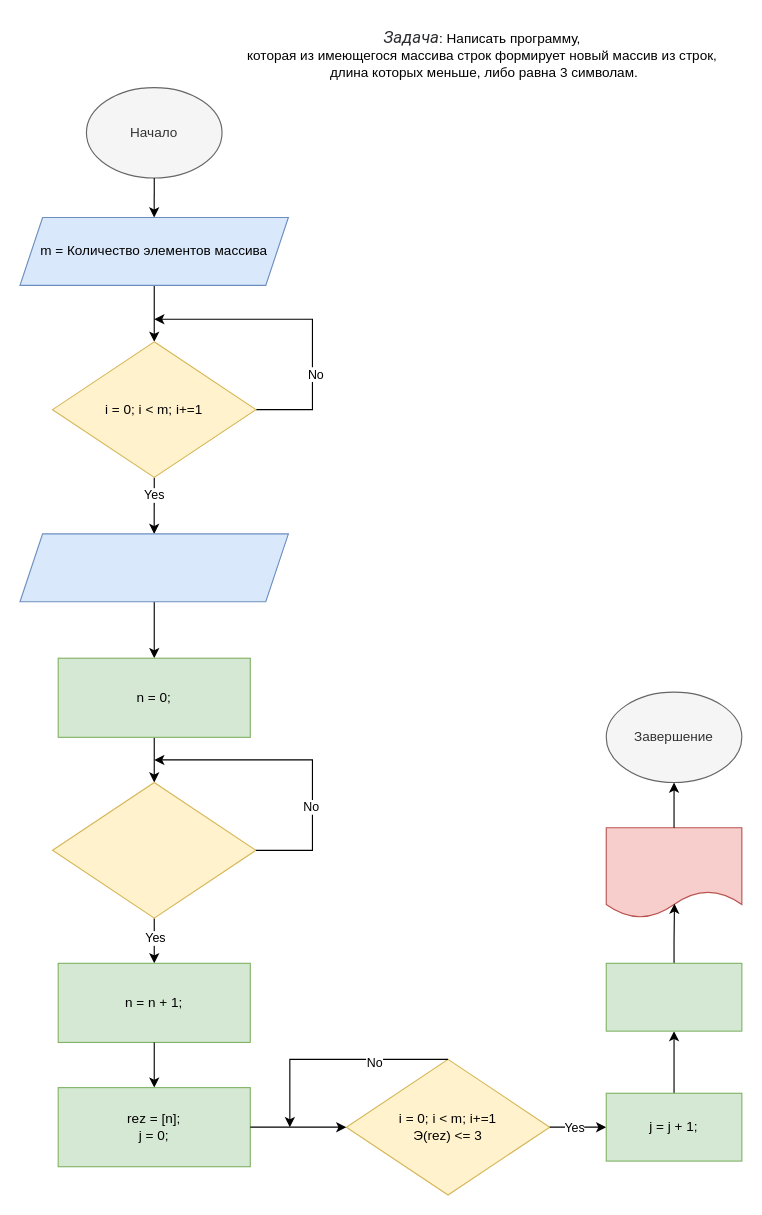
This 762x1215 diagram has some shape labels left out. The centre of each missing label's shape, as x and y in pixels:
"i = 0; i < m; i+=1 Э(m) <= 3" belongs at (x=153, y=849).
"print(rez)" belongs at (x=673, y=872).
"rez" belongs at (x=673, y=996).
"Элемент массива (Э(m)) = Вводится значение элементов массива" belongs at (x=153, y=567).
